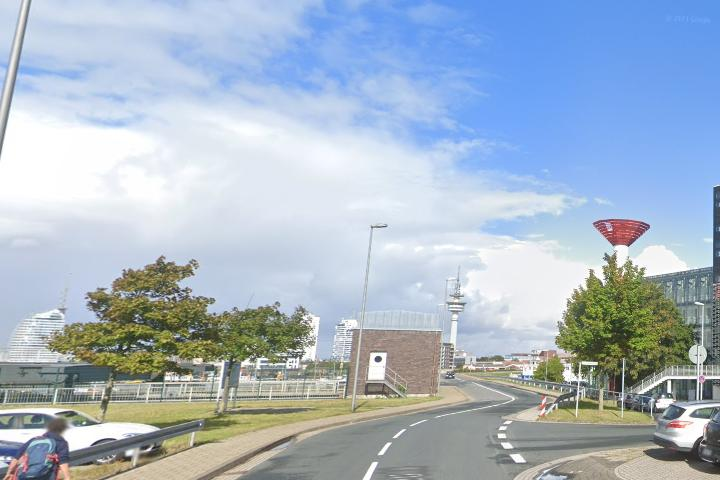vehicle: (1, 403, 170, 471)
